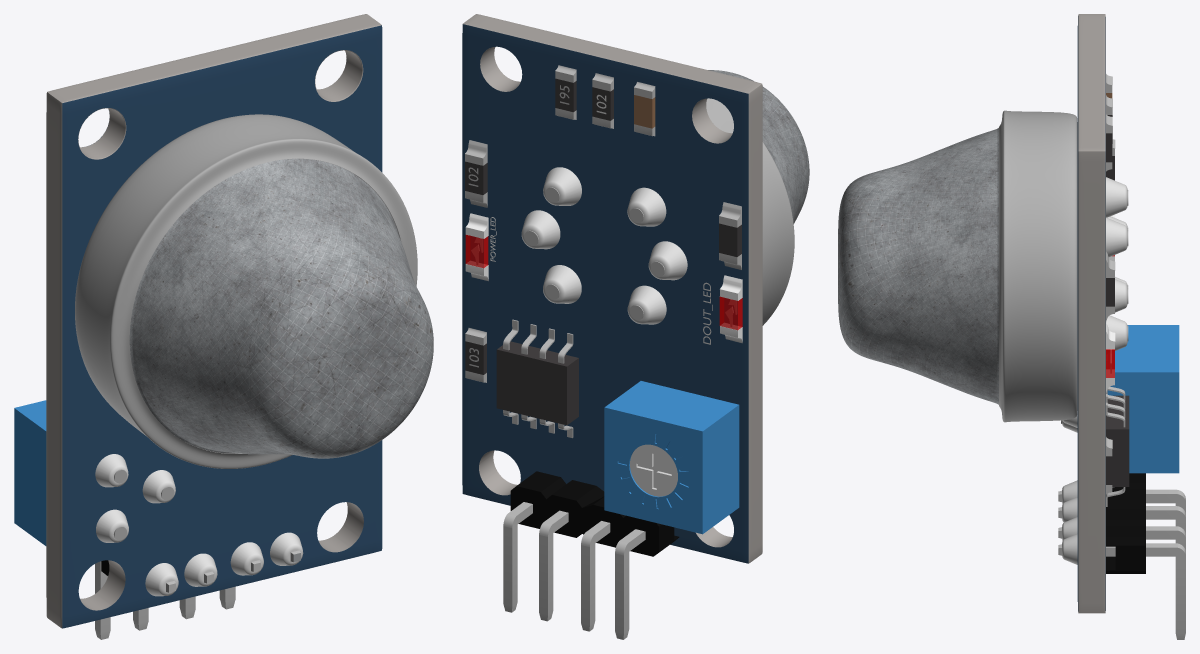
The picture shows the model from 3 angles, left to right: view 1: azimuth 30°, elevation 25°; view 2: azimuth 150°, elevation 25°; view 3: azimuth 270°, elevation 25°; orthographic projection. The views are drawn at different scales.
Visible parts, largest first — view 1: GRADE_GAS_001-material (×2), Material_213-material, Material_001-material, Material-material, Metal_059-material, plastico_Azul_001-material, metal_023-material; view 2: Material_213-material, plastico_Azul_001-material, Material-material, metal_023-material, cor_chip_001-material, Metal_059-material, plastico_preto_049-material, Material_001-material, GRADE_GAS_001-material, plastico_branco_016-material, vidro_034-material, Material_002-material (+2 smaller); view 3: GRADE_GAS_001-material (×2), Material_001-material, Material-material, plastico_Azul_001-material, metal_023-material, Metal_059-material, plastico_preto_049-material, cor_chip_001-material, Material_213-material.
Part boxes in pixels (box(x1,y1,x2,y2)): GRADE_GAS_001-material (×2): box(129, 158, 433, 561); Material_213-material: box(62, 25, 382, 628); Material_001-material: box(75, 114, 417, 540); Material-material: box(46, 14, 381, 628); Metal_059-material: box(95, 454, 303, 596); plastico_Azul_001-material: box(14, 400, 46, 545); metal_023-material: box(95, 550, 300, 639); Material_213-material: box(462, 24, 748, 563); plastico_Azul_001-material: box(604, 381, 739, 534); Material-material: box(463, 14, 762, 563); metal_023-material: box(465, 65, 741, 639); cor_chip_001-material: box(465, 78, 741, 425); Metal_059-material: box(521, 167, 687, 324); plastico_preto_049-material: box(510, 471, 679, 556); Material_001-material: box(706, 98, 794, 325); GRADE_GAS_001-material: box(708, 70, 809, 223); plastico_branco_016-material: box(630, 444, 677, 496); vidro_034-material: box(465, 213, 742, 343); Material_002-material: box(465, 234, 742, 330); GRADE_GAS_001-material (×2): box(838, 128, 998, 404); Material_001-material: box(999, 110, 1077, 423); Material-material: box(1078, 14, 1105, 613); plastico_Azul_001-material: box(1107, 325, 1179, 473); metal_023-material: box(1058, 74, 1185, 639); Metal_059-material: box(1062, 177, 1127, 564); plastico_preto_049-material: box(1106, 473, 1145, 573); cor_chip_001-material: box(1106, 115, 1129, 486); Material_213-material: box(1077, 16, 1105, 611).
Bounding box in the file's own units: 0.0204 × 0.0366 × 0.0218.
Materials: 14 (1 with a texture image).
